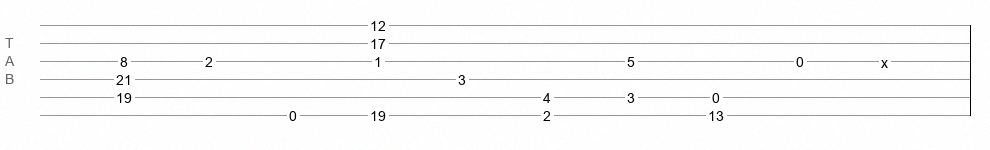0: (289, 108, 297, 118), (712, 90, 720, 100), (796, 54, 804, 64)
1: (374, 54, 382, 64)
12: (370, 18, 386, 28)
13: (708, 108, 724, 118)
17: (370, 36, 386, 46)
19: (116, 90, 132, 100), (370, 108, 386, 118)
2: (205, 54, 213, 64), (543, 108, 551, 118)
21: (116, 72, 132, 82)
3: (458, 72, 466, 82), (627, 90, 635, 100)
4: (543, 90, 551, 100)
5: (627, 54, 635, 64)
8: (120, 54, 128, 64)
x: (881, 55, 888, 63)
